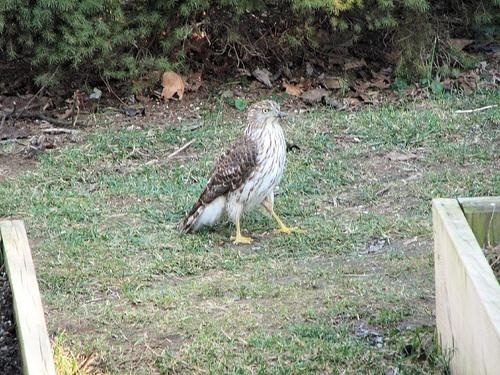bird: (185, 99, 304, 245)
